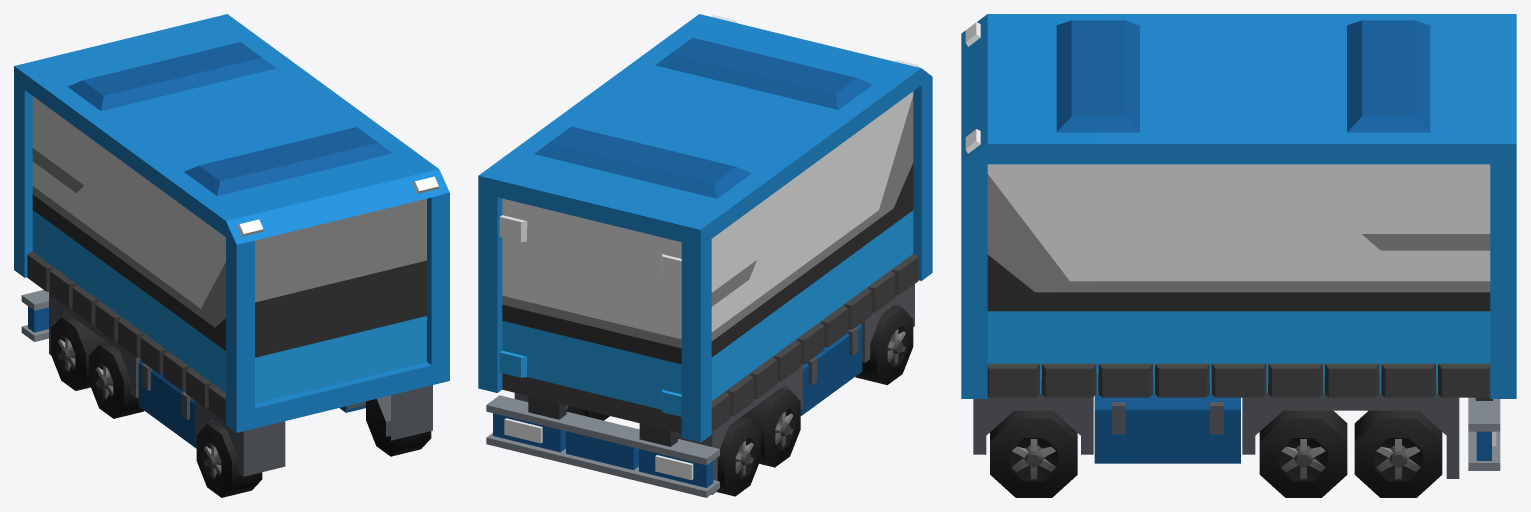
Rendered from cargo_04_A_2.fbx.
The picture shows the model from 3 angles, left to right: view 1: azimuth 30°, elevation 25°; view 2: azimuth 150°, elevation 25°; view 3: azimuth 270°, elevation 25°; orthographic projection. The views are drawn at different scales.
Visible parts, largest first — view 1: cargo_04_A_2; view 2: cargo_04_A_2; view 3: cargo_04_A_2.
Part boxes in pixels (left/top/right/bottom): cargo_04_A_2: left=14, top=14, right=449, bottom=497; cargo_04_A_2: left=478, top=14, right=932, bottom=497; cargo_04_A_2: left=961, top=14, right=1516, bottom=497.
Bounding box in the file's own units: 1339 × 1772 × 2419.
